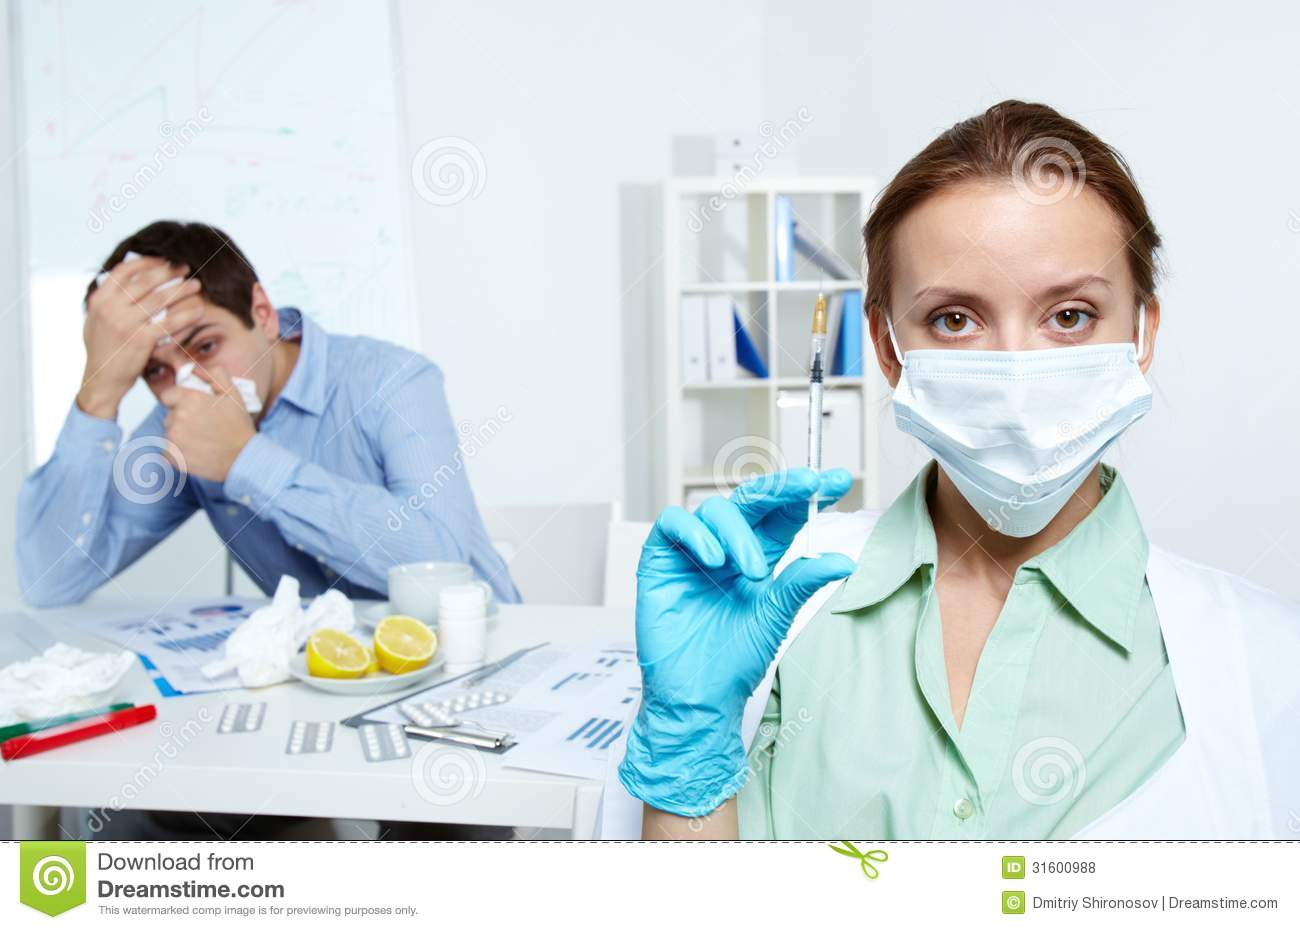mask: (879, 338, 1167, 539)
